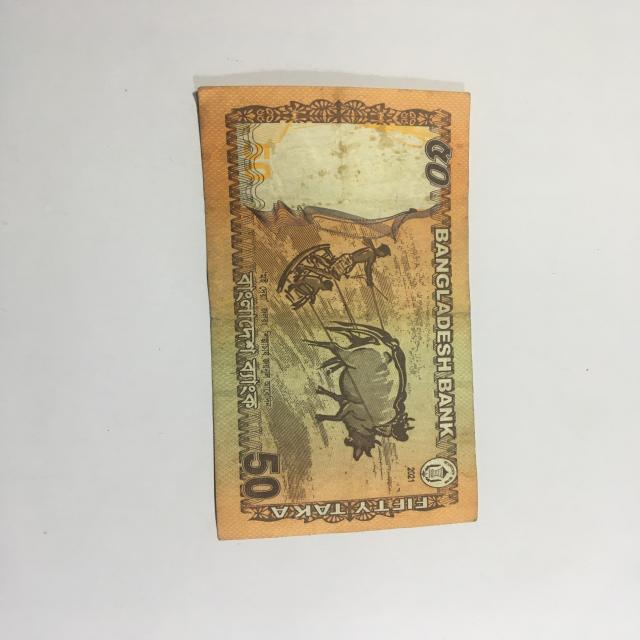Taka: (187, 63, 486, 514)
